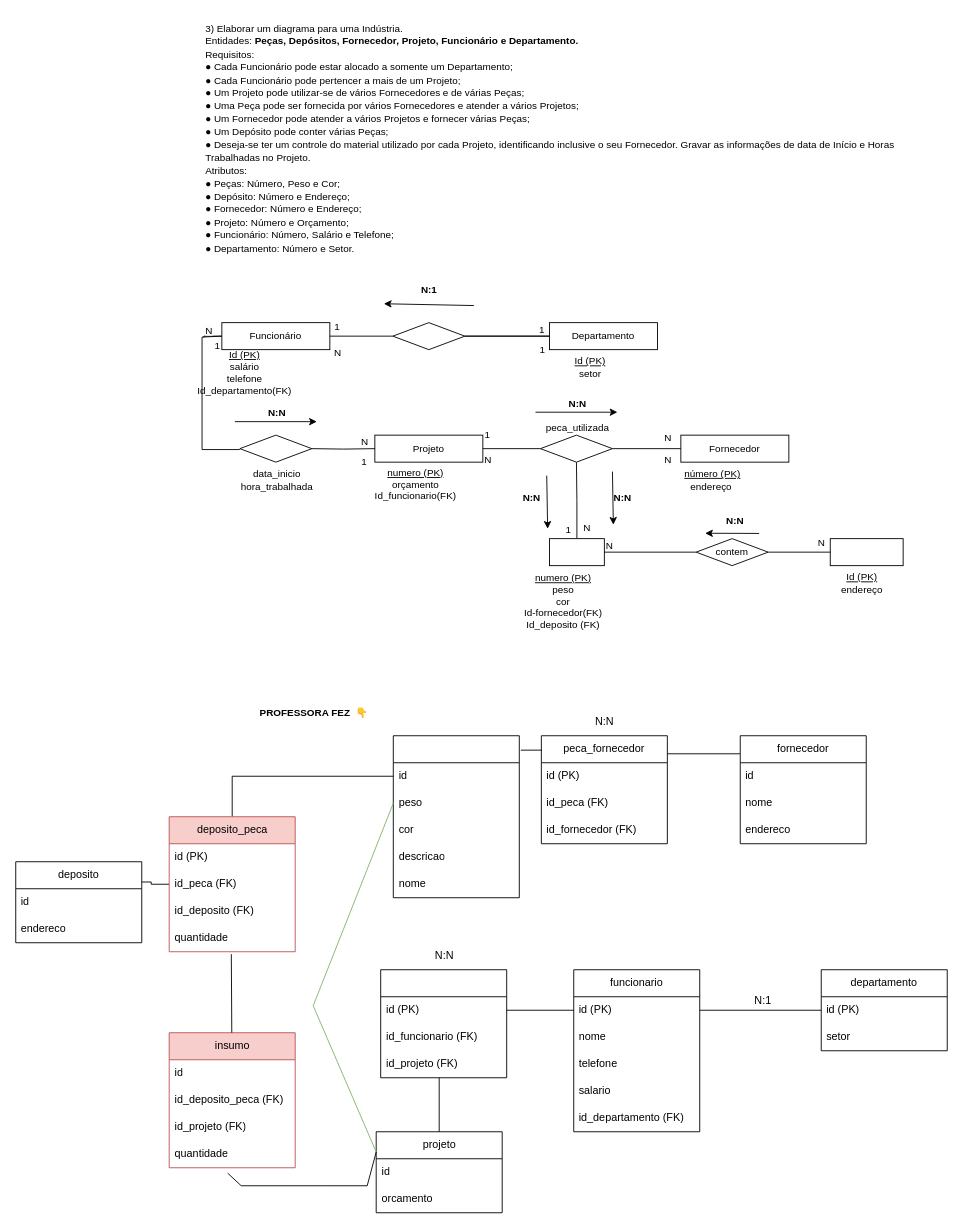
This 963x1229 diagram has some shape labels left out. Each missing label, with the box of its shape:
Depósitos: (829, 538, 903, 566)
pertence: (239, 434, 312, 462)
peça: (392, 735, 519, 898)
Peças: (549, 538, 604, 566)
projeto_funcionario: (380, 969, 507, 1078)
tem: (392, 322, 465, 350)
utiliza: (540, 434, 612, 462)
